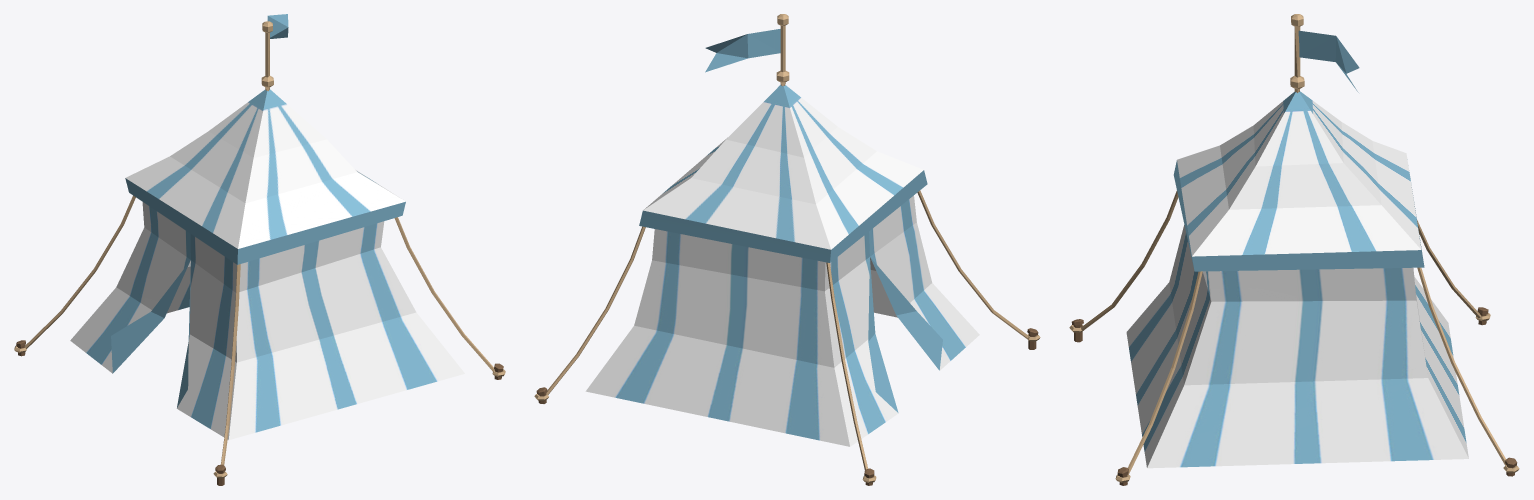
The model's file is Tent_blue.fbx.
3 renders of one model, left to right at view 1: azimuth 30°, elevation 25°; view 2: azimuth 150°, elevation 25°; view 3: azimuth 270°, elevation 25°, orthographic. The views are drawn at different scales.
Visible parts, largest first — view 1: tent_blue; view 2: tent_blue; view 3: tent_blue.
Boxes of the visible parts, x1,y1,x2,y2 form: tent_blue: [14, 14, 505, 485]; tent_blue: [534, 14, 1040, 485]; tent_blue: [1069, 14, 1519, 485].
Bounding box in the file's own units: 5.39 × 5.57 × 5.53.
